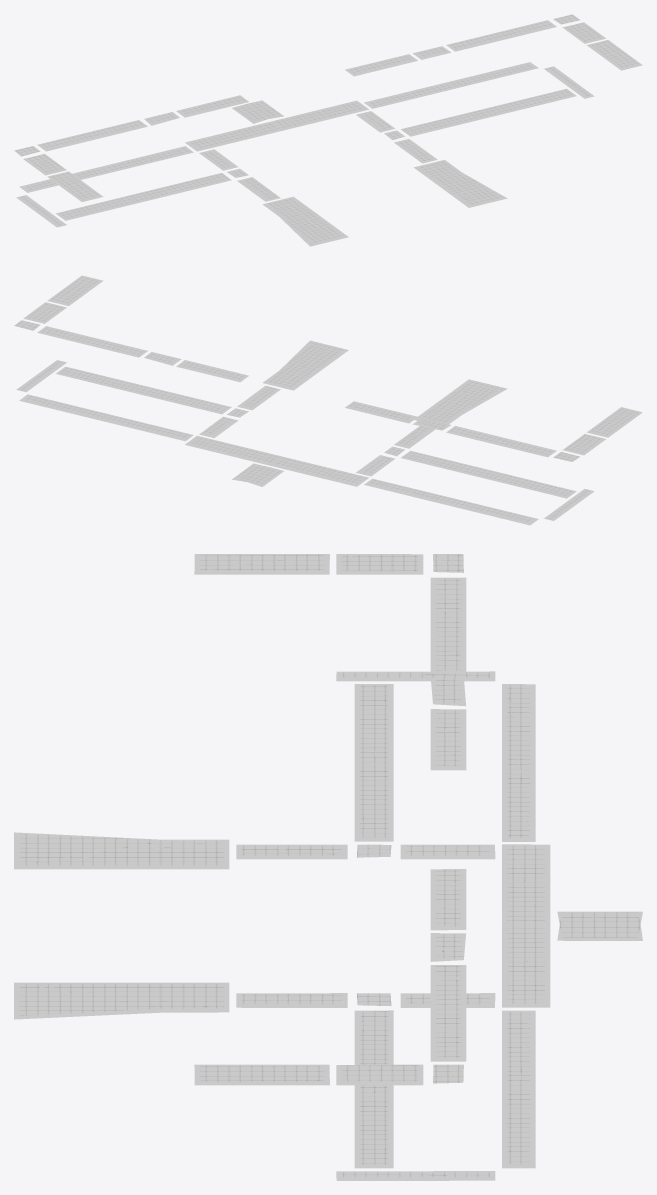
File: roof_InsideWallsCeiling.FBX
3 views of the same model, one above another, from view 1: azimuth 30°, elevation 25°; view 2: azimuth 150°, elevation 25°; view 3: azimuth 270°, elevation 25° (orthographic). The views are drawn at different scales.
Parts seen in each view (by area): view 1: roof_InsideWallsCeiling; view 2: roof_InsideWallsCeiling; view 3: roof_InsideWallsCeiling.
Boxes of the visible parts, x1,y1,x2,y2 form: roof_InsideWallsCeiling: (14,14,642,246); roof_InsideWallsCeiling: (14,275,642,525); roof_InsideWallsCeiling: (14,554,642,1180).
Size of the model in its own units: 9497 by 4752 by 902.
